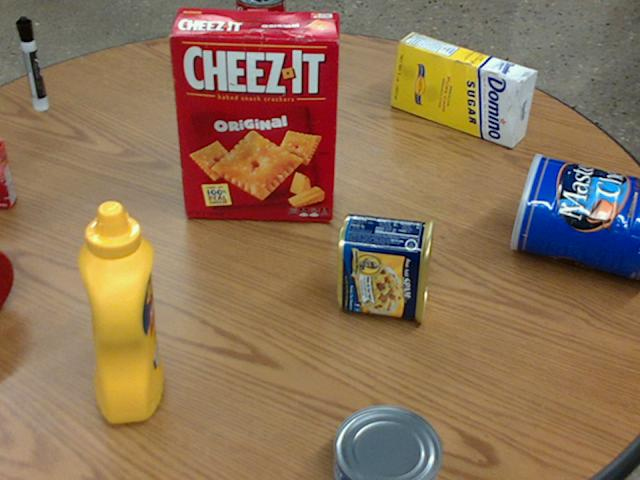cracker_box: (170, 8, 341, 217)
gelatin_box: (0, 139, 18, 207)
large_marker: (17, 17, 48, 110)
master_chef_can: (509, 153, 639, 280)
mug: (0, 248, 16, 309)
mustard_bottle: (77, 200, 163, 421)
potted_meat_can: (337, 213, 433, 323)
sugar_box: (391, 31, 538, 146)
tomato_soup_can: (236, 0, 286, 72)
tuna_fish_can: (332, 405, 440, 479)
